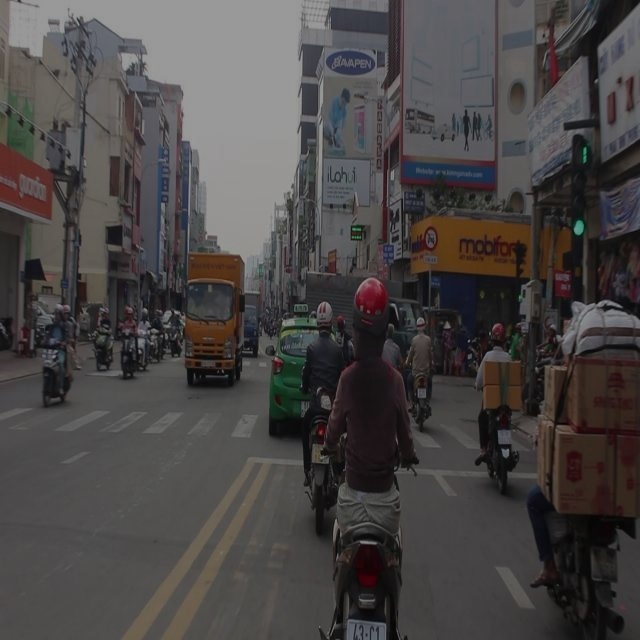P.103a: (422, 222, 440, 255)
